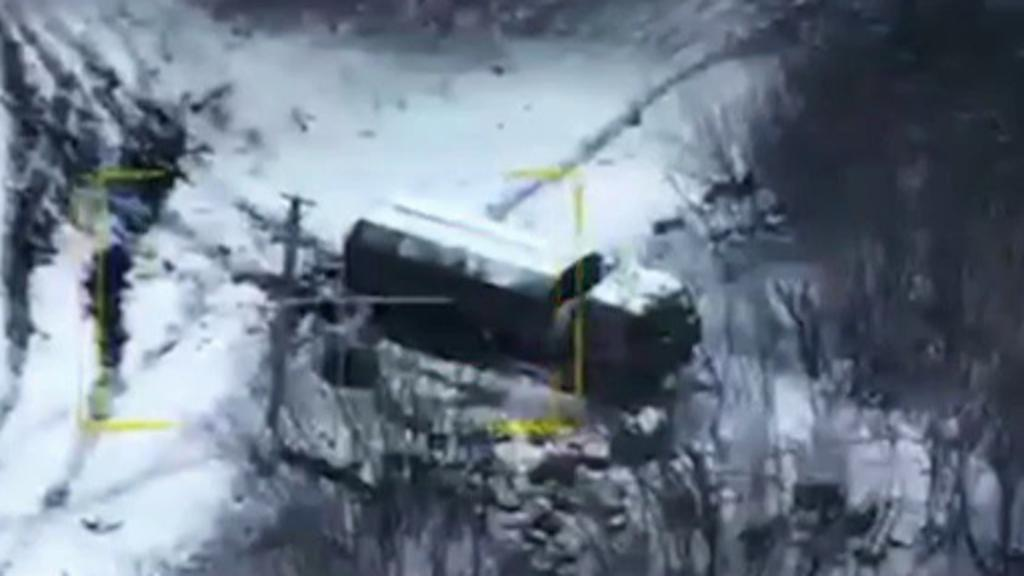TRUCK: (340, 195, 698, 404)
